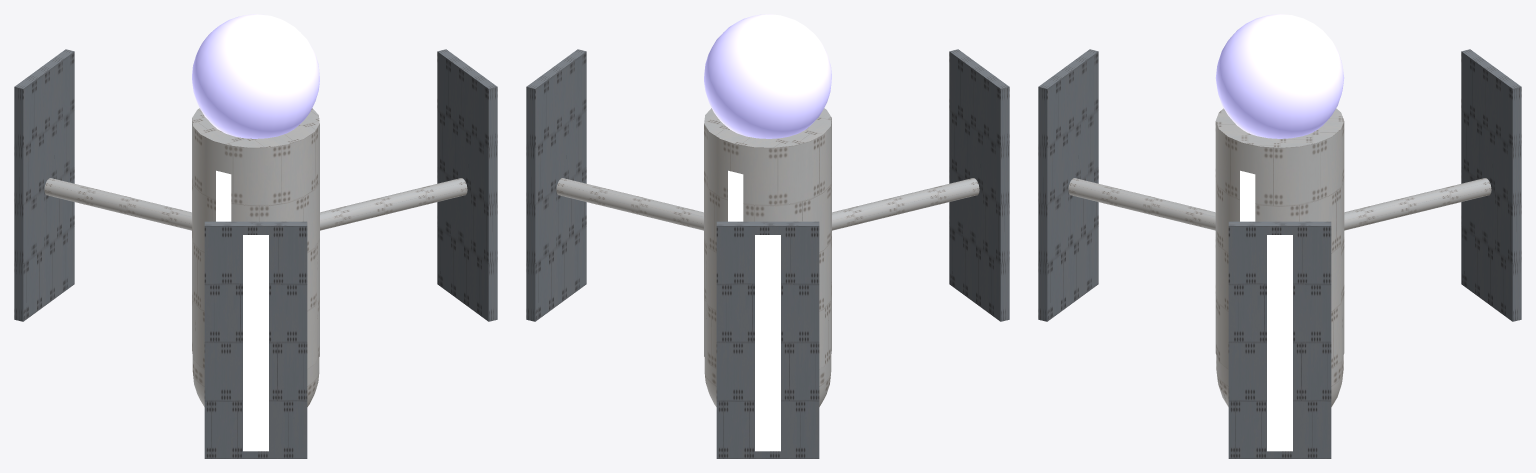
The model's file is shipwreck.glb.
3 renders of one model, left to right at view 1: azimuth 30°, elevation 25°; view 2: azimuth 150°, elevation 25°; view 3: azimuth 270°, elevation 25°, orthographic.
Visible parts, largest first — view 1: Nacelle_1, Fuselage, Nacelle, Nacelle_2, Control_Module, Light_4, Connector, Connector_2, Bottom, Light_2; view 2: Nacelle_2, Fuselage, Nacelle, Nacelle_1, Control_Module, Light_5, Connector, Connector_1, Bottom, Light.001; view 3: Nacelle, Fuselage, Nacelle_1, Nacelle_2, Control_Module, Light_3, Connector_1, Connector_2, Bottom, Light_1.
Boxes of the visible parts, box(x1,y1,x2,y2) form: Nacelle_1: box(204, 221, 307, 458); Fuselage: box(192, 108, 319, 369); Nacelle: box(437, 49, 497, 321); Nacelle_2: box(14, 49, 74, 321); Control_Module: box(192, 14, 319, 138); Light_4: box(243, 235, 268, 451); Connector: box(320, 178, 467, 230); Connector_2: box(44, 178, 191, 230); Bottom: box(192, 259, 319, 406); Light_2: box(216, 170, 231, 221); Nacelle_2: box(716, 221, 819, 458); Fuselage: box(704, 108, 831, 369); Nacelle: box(526, 49, 586, 321); Nacelle_1: box(949, 49, 1009, 321); Control_Module: box(704, 14, 831, 138); Light_5: box(755, 235, 780, 451); Connector: box(556, 178, 703, 230); Connector_1: box(832, 178, 979, 230); Bottom: box(704, 259, 831, 406); Light.001: box(728, 170, 743, 221); Nacelle: box(1228, 221, 1331, 458); Fuselage: box(1215, 108, 1344, 369); Nacelle_1: box(1038, 49, 1098, 321); Nacelle_2: box(1461, 49, 1521, 321); Control_Module: box(1215, 14, 1344, 138); Light_3: box(1267, 235, 1292, 451); Connector_1: box(1068, 178, 1215, 230); Connector_2: box(1344, 178, 1491, 230); Bottom: box(1216, 259, 1343, 406); Light_1: box(1240, 170, 1255, 221).
Size of the model in its own units: 3.27 by 3.51 by 3.76.
Materials: 4 (2 with a texture image).
